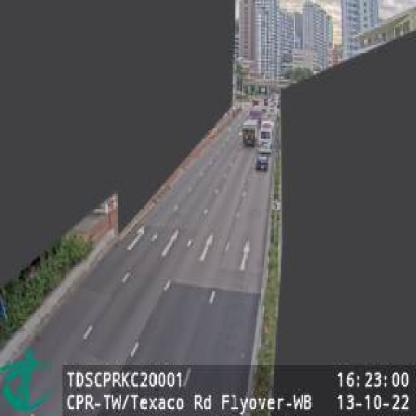Bus: (259, 119, 276, 154)
Car: (257, 155, 268, 176)
Truck: (242, 117, 257, 148)
